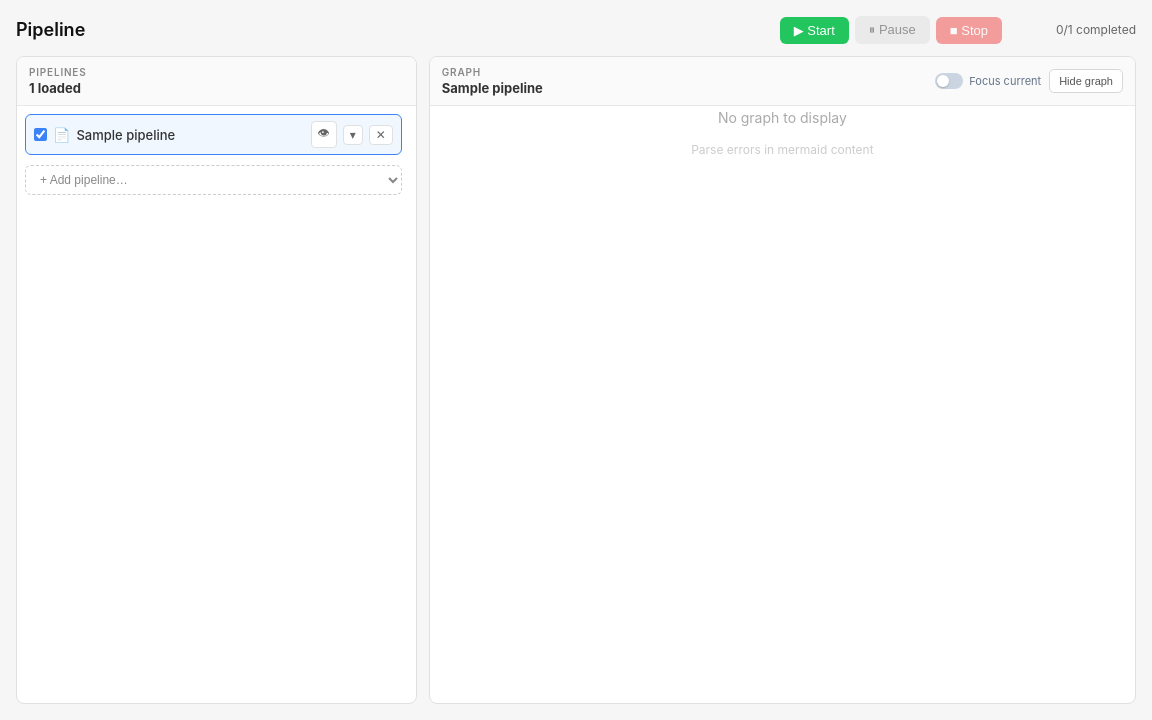
Test: PipelineView workspace › lets the user hide the graph for more editing space and restore it
This screenshot has width=1152, height=720.
Expected: the element "Graph" is shown, [429, 56, 1136, 704]
What coordinates should you click on to do the following:
click the button "Hide graph"
I would click on:
 (1086, 81)
Its box is [1049, 69, 1123, 93].
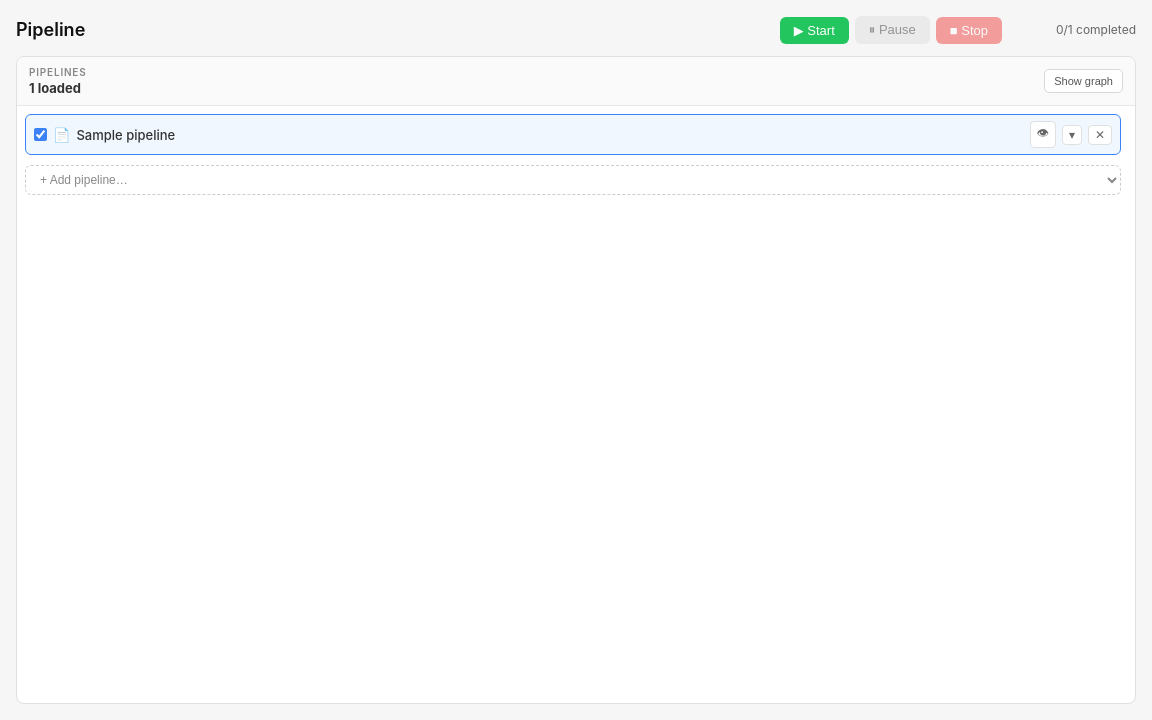
Expected: the button "Show graph" is shown
What coordinates should you click on to do the following:
click the button "Show graph"
I would click on:
 (1084, 81)
Its box is [1044, 69, 1123, 93].
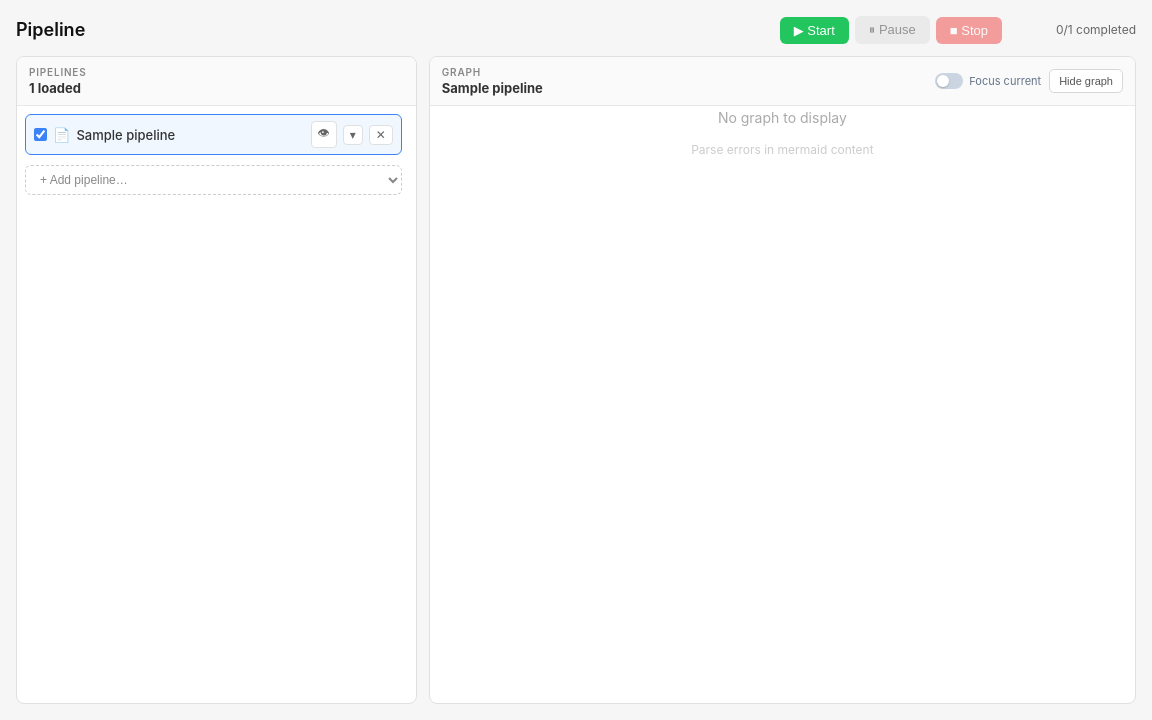
Expected: the element "Graph" is shown, [429, 56, 1136, 704]
